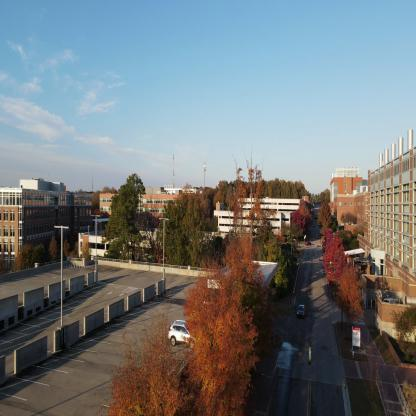EB-1: (359, 155, 415, 338)
